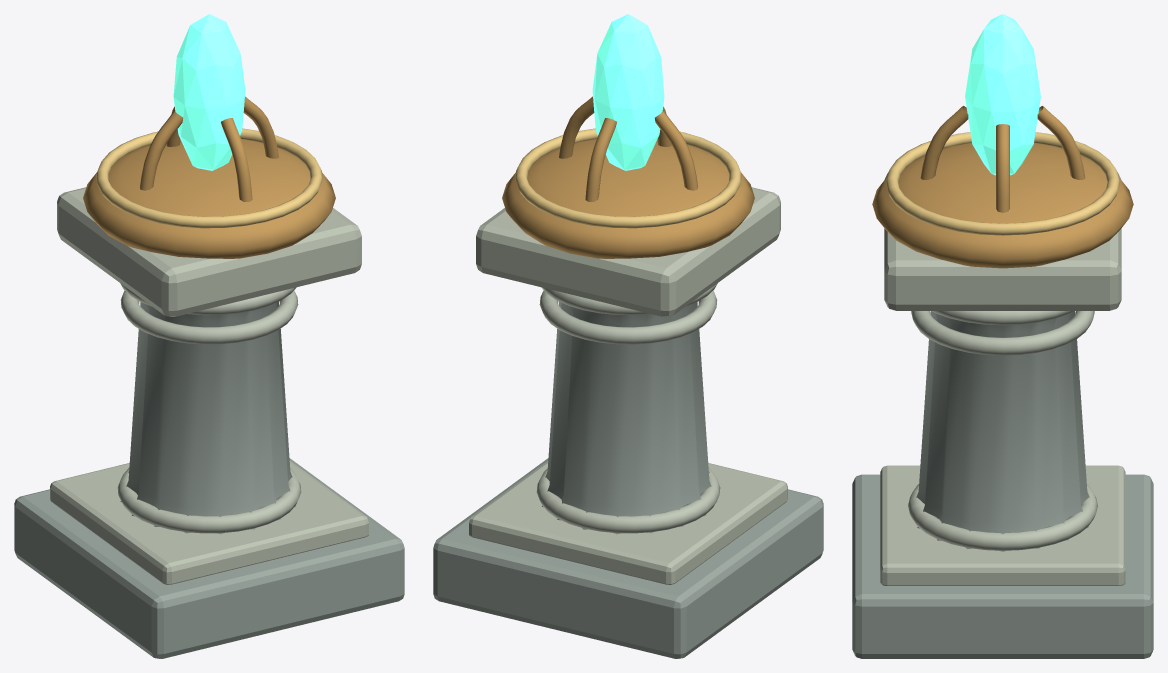
Rendered from WayShrine.fbx.
The picture shows the model from 3 angles, left to right: view 1: azimuth 30°, elevation 25°; view 2: azimuth 150°, elevation 25°; view 3: azimuth 270°, elevation 25°; orthographic projection. The views are drawn at different scales.
Visible parts, largest first — view 1: Foundation.002_export, Fluted limestone.002_export, Offering basin_export, Stylobate.002_export, Capital.002_export, Floating sacred crystal_export, Basin lip_export, Carved moulding.006_export, Carved moulding.007_export, Crystal cradle.002_export, Crystal cradle.003_export, Carved moulding.008_export (+1 smaller); view 2: Foundation.002_export, Fluted limestone.002_export, Offering basin_export, Stylobate.002_export, Capital.002_export, Floating sacred crystal_export, Basin lip_export, Carved moulding.006_export, Carved moulding.007_export, Crystal cradle.002_export, Crystal cradle.001_export, Carved moulding.008_export (+1 smaller); view 3: Fluted limestone.002_export, Foundation.002_export, Offering basin_export, Stylobate.002_export, Capital.002_export, Floating sacred crystal_export, Basin lip_export, Carved moulding.006_export, Carved moulding.007_export, Carved moulding.008_export, Crystal cradle_export, Crystal cradle.001_export (+1 smaller).
Part boxes in pixels (x1=…): Foundation.002_export: x1=14, y1=458, x2=404, y2=658; Fluted limestone.002_export: x1=120, y1=301, x2=295, y2=534; Offering basin_export: x1=83, y1=138, x2=335, y2=258; Stylobate.002_export: x1=50, y1=461, x2=368, y2=584; Capital.002_export: x1=57, y1=187, x2=361, y2=316; Floating sacred crystal_export: x1=173, y1=14, x2=245, y2=170; Basin lip_export: x1=96, y1=128, x2=322, y2=228; Carved moulding.006_export: x1=117, y1=468, x2=301, y2=533; Carved moulding.007_export: x1=120, y1=290, x2=298, y2=344; Crystal cradle.002_export: x1=140, y1=111, x2=182, y2=190; Crystal cradle.003_export: x1=221, y1=118, x2=252, y2=201; Carved moulding.008_export: x1=120, y1=283, x2=296, y2=315; Foundation.002_export: x1=433, y1=458, x2=823, y2=658; Fluted limestone.002_export: x1=542, y1=301, x2=717, y2=534; Offering basin_export: x1=502, y1=138, x2=754, y2=258; Stylobate.002_export: x1=469, y1=461, x2=787, y2=584; Capital.002_export: x1=476, y1=187, x2=780, y2=316; Floating sacred crystal_export: x1=592, y1=14, x2=664, y2=170; Basin lip_export: x1=515, y1=128, x2=741, y2=228; Carved moulding.006_export: x1=536, y1=468, x2=720, y2=533; Carved moulding.007_export: x1=539, y1=290, x2=717, y2=344; Crystal cradle.002_export: x1=655, y1=111, x2=697, y2=190; Crystal cradle.001_export: x1=585, y1=118, x2=616, y2=201; Carved moulding.008_export: x1=541, y1=283, x2=717, y2=315; Fluted limestone.002_export: x1=916, y1=311, x2=1089, y2=551; Foundation.002_export: x1=852, y1=474, x2=1153, y2=658; Offering basin_export: x1=872, y1=142, x2=1133, y2=268; Stylobate.002_export: x1=880, y1=465, x2=1125, y2=585; Capital.002_export: x1=884, y1=173, x2=1121, y2=310; Floating sacred crystal_export: x1=965, y1=14, x2=1040, y2=175; Basin lip_export: x1=885, y1=132, x2=1120, y2=235; Carved moulding.006_export: x1=908, y1=484, x2=1097, y2=550; Carved moulding.007_export: x1=911, y1=311, x2=1094, y2=355; Carved moulding.008_export: x1=932, y1=311, x2=1073, y2=325; Crystal cradle_export: x1=996, y1=124, x2=1009, y2=212; Crystal cradle.001_export: x1=1037, y1=106, x2=1085, y2=179.
Size of the model in its own units: 380 by 815 by 380.
